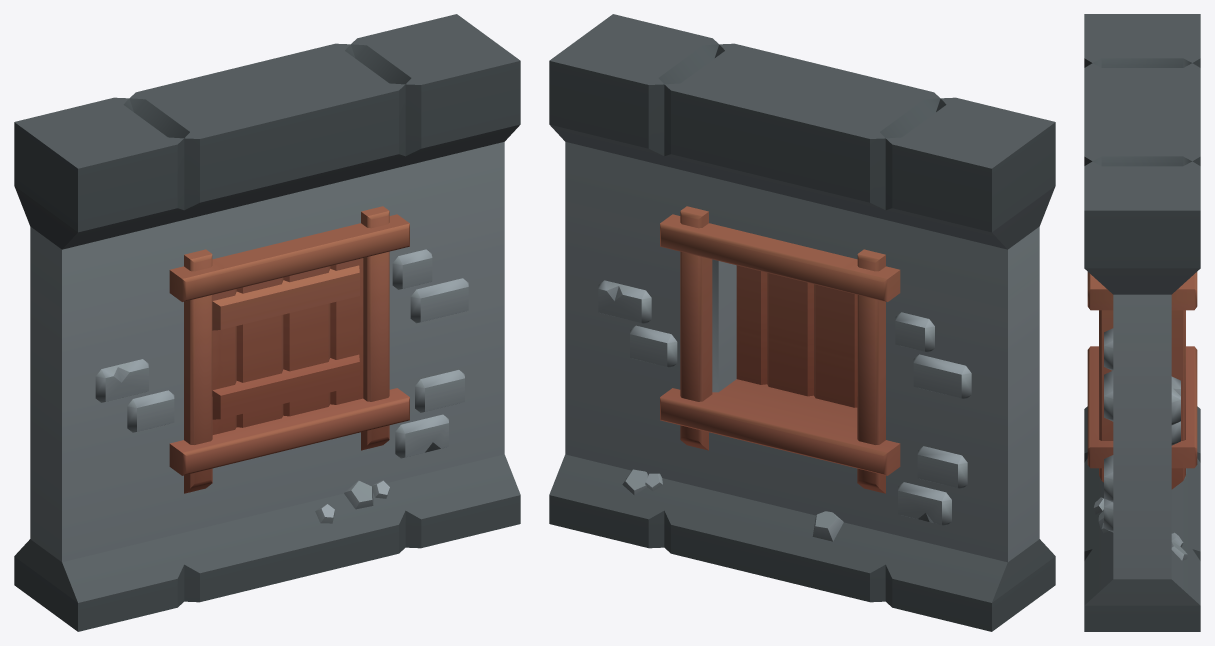
The model's file is wall_window_closed.glb.
The picture shows the model from 3 angles, left to right: view 1: azimuth 30°, elevation 25°; view 2: azimuth 150°, elevation 25°; view 3: azimuth 270°, elevation 25°; orthographic projection. The views are drawn at different scales.
Parts seen in each view (by area): view 1: wall_window_closed; view 2: wall_window_closed; view 3: wall_window_closed.
Part boxes in pixels (<box>): wall_window_closed: <box>14,14,520,631</box>; wall_window_closed: <box>549,14,1055,631</box>; wall_window_closed: <box>1084,14,1200,631</box>.
Bounding box in the file's own units: 4 × 4 × 1.
Materials: 1 (1 with a texture image).
